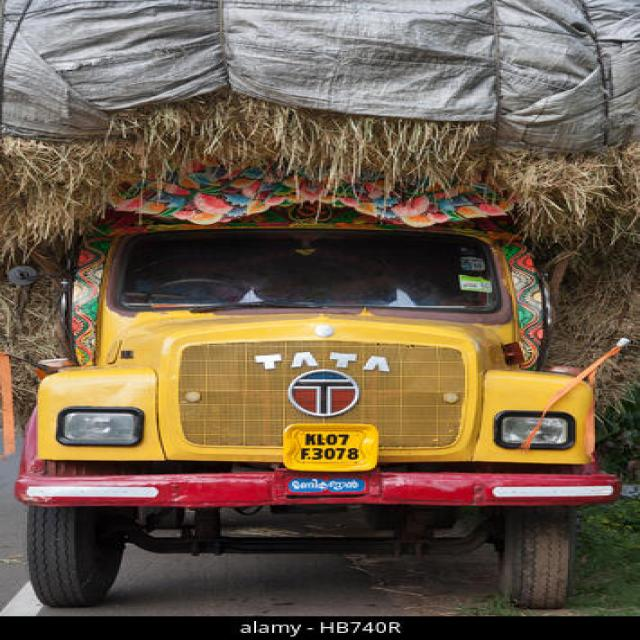goods: (0, 0, 638, 364), (15, 364, 36, 417)
truck: (17, 168, 618, 607)
